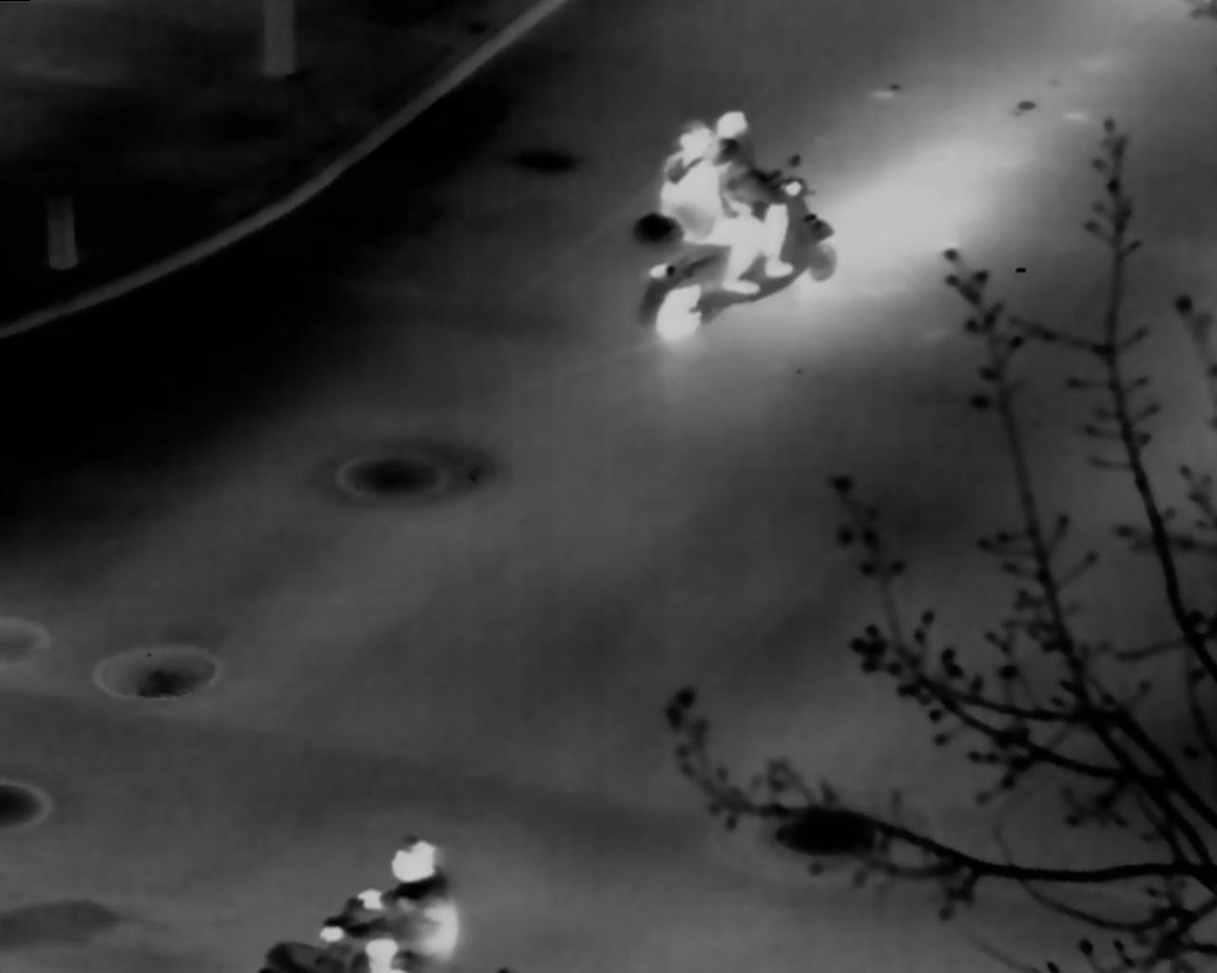person: (318, 838, 460, 973), (658, 120, 763, 294), (716, 110, 802, 278)
